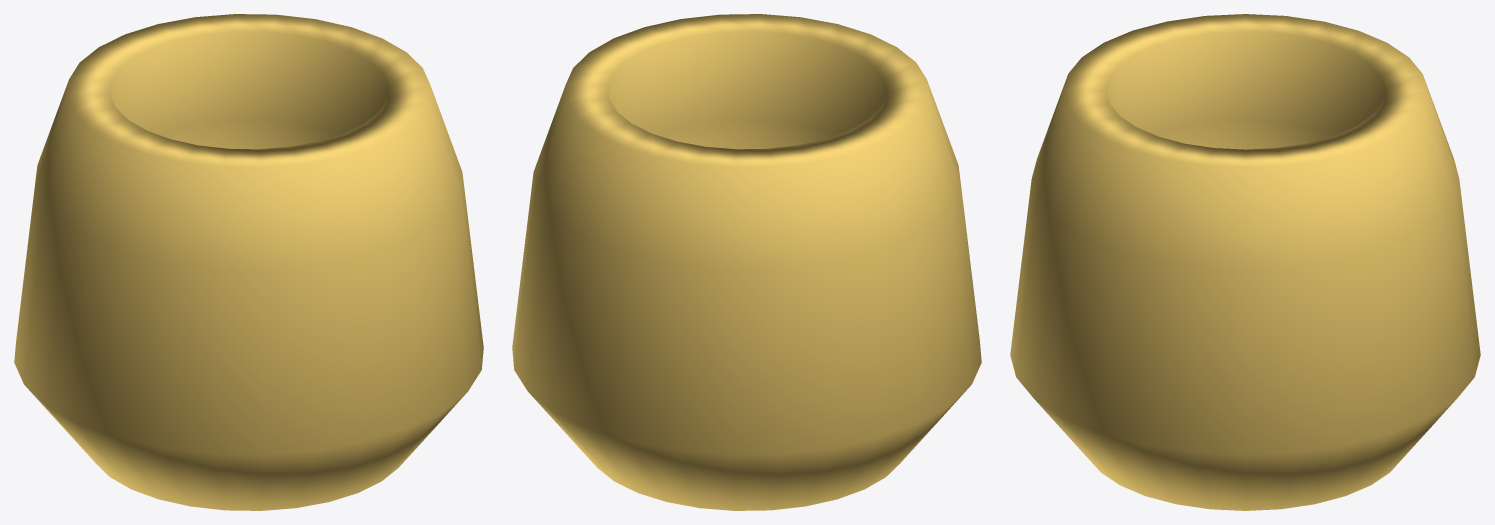
The model's file is underwater-reef-worlds-barrel-sponge-c7fea4e1__7014.glb.
3 renders of one model, left to right at view 1: azimuth 30°, elevation 25°; view 2: azimuth 150°, elevation 25°; view 3: azimuth 270°, elevation 25°, orthographic.
Parts seen in each view (by area): view 1: barrel-sponge; view 2: barrel-sponge; view 3: barrel-sponge.
Boxes of the visible parts, box(x1,y1,x2,y2) form: barrel-sponge: box(14, 14, 483, 510); barrel-sponge: box(512, 14, 981, 510); barrel-sponge: box(1010, 14, 1480, 510).
Size of the model in its own units: 1.21 by 1 by 1.21.
